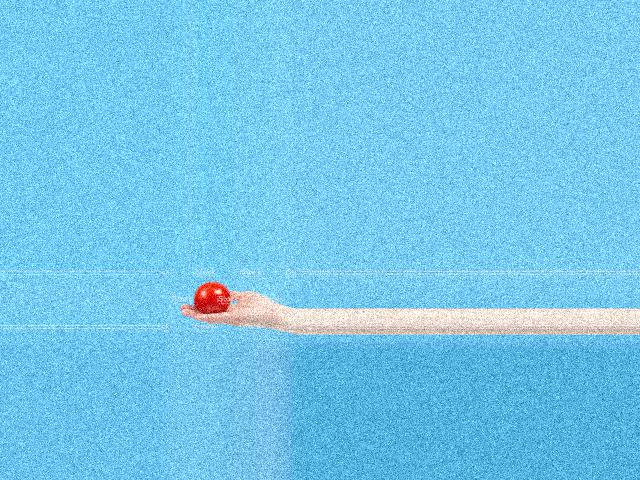tomato: (194, 282, 230, 313)
